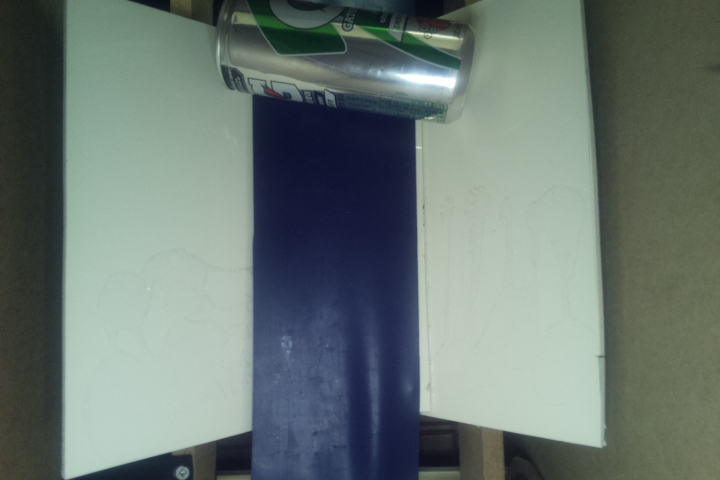can: (218, 1, 478, 127)
